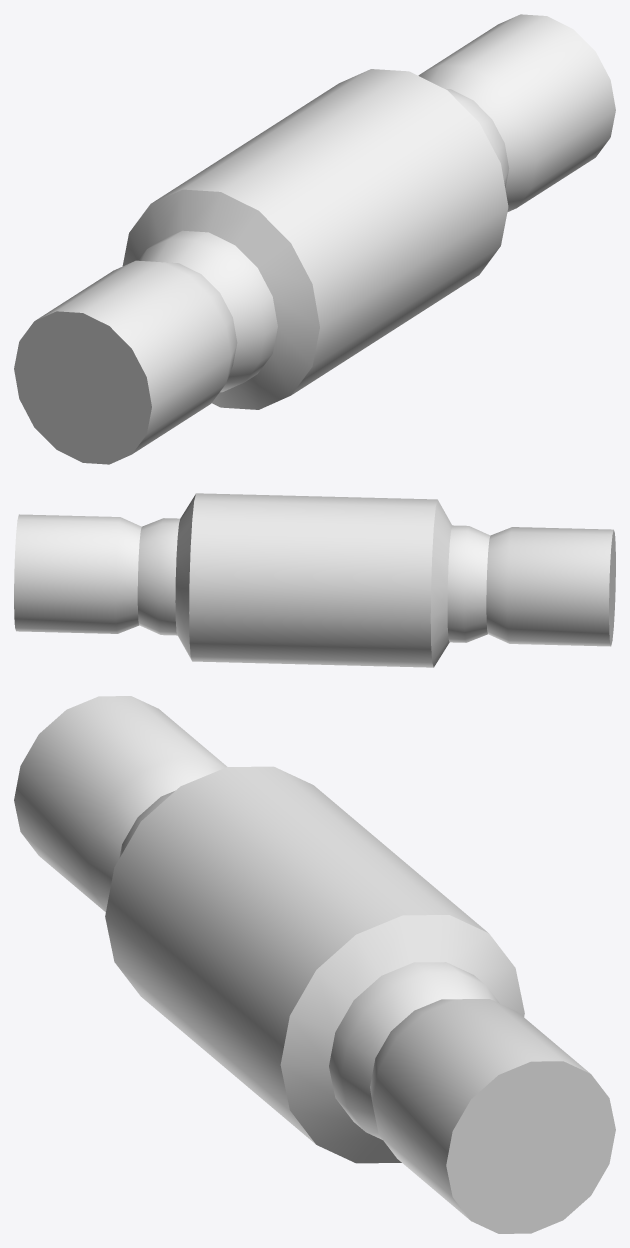
Rendered from Axle.fbx.
3 views of the same model, one above another, from view 1: azimuth 30°, elevation 25°; view 2: azimuth 150°, elevation 25°; view 3: azimuth 270°, elevation 25° (orthographic). The views are drawn at different scales.
Visible parts, largest first — view 1: Axle; view 2: Axle; view 3: Axle.
Boxes of the visible parts, box(x1,y1,x2,y2) form: Axle: box(14, 14, 615, 464); Axle: box(14, 493, 615, 667); Axle: box(14, 696, 615, 1233).
Bounding box in the file's own units: 79.84 × 22.97 × 50.64.
